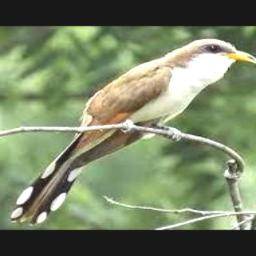Cuckoo: (9, 39, 256, 225)
